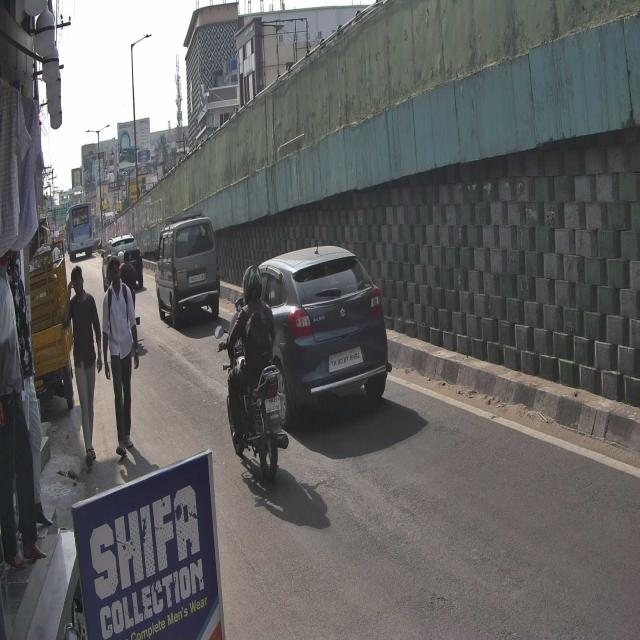single_rider: (215, 262, 291, 487)
